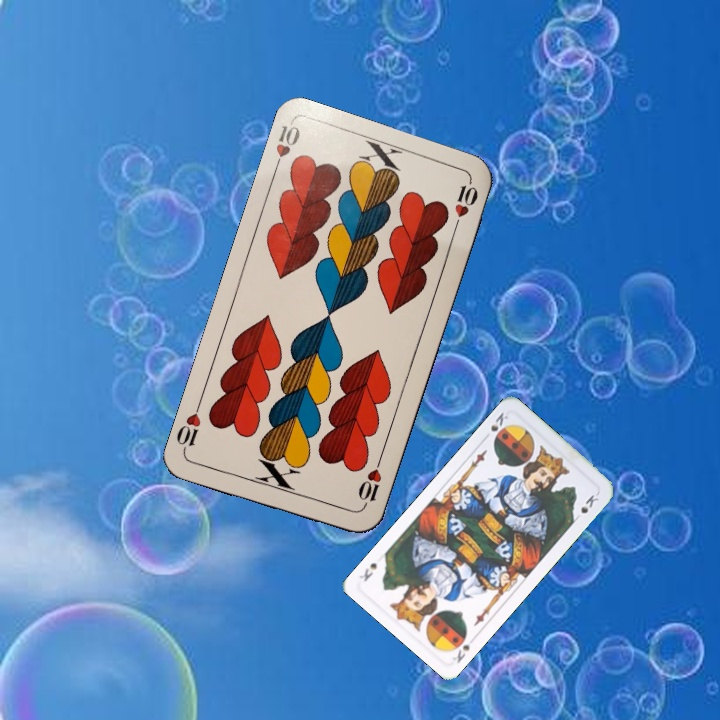H10: (269, 119, 303, 177), (354, 454, 384, 512)
SK: (479, 408, 511, 442), (447, 630, 473, 666)
